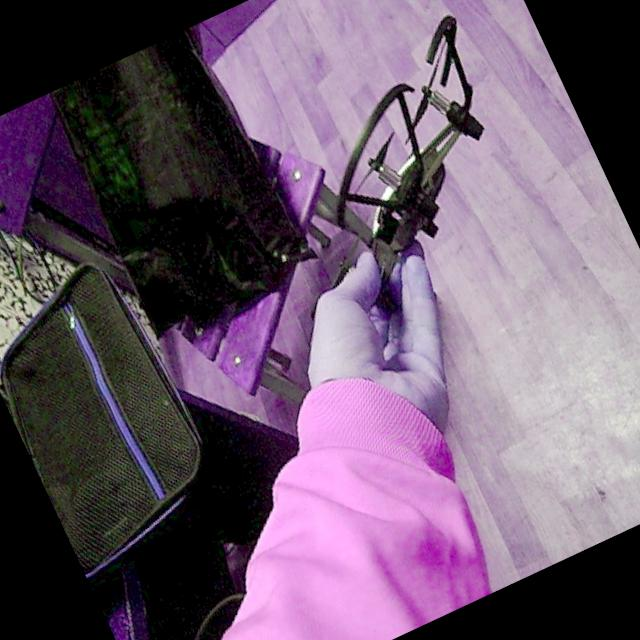drone: (240, 4, 558, 315)
